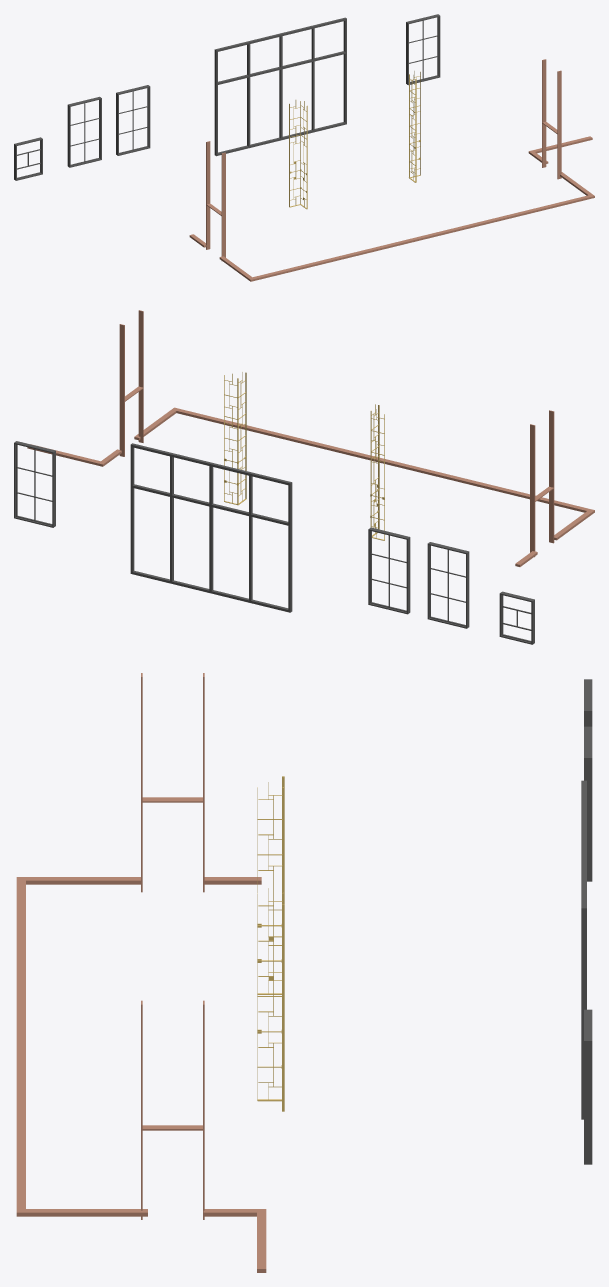
Rendered from MeshBaker (1)-mesh-mesh.fbx.
The picture shows the model from 3 angles, top to bottom: view 1: azimuth 30°, elevation 25°; view 2: azimuth 150°, elevation 25°; view 3: azimuth 270°, elevation 25°; orthographic projection. The views are drawn at different scales.
Parts seen in each view (by area): view 1: MeshBaker__1__mesh_mesh; view 2: MeshBaker__1__mesh_mesh; view 3: MeshBaker__1__mesh_mesh.
Part boxes in pixels (x1,y1,x2,y2): MeshBaker__1__mesh_mesh: (14,14,594,281); MeshBaker__1__mesh_mesh: (14,310,594,644); MeshBaker__1__mesh_mesh: (16,673,592,1272).
Size of the model in its own units: 3156 by 670 by 1590.
